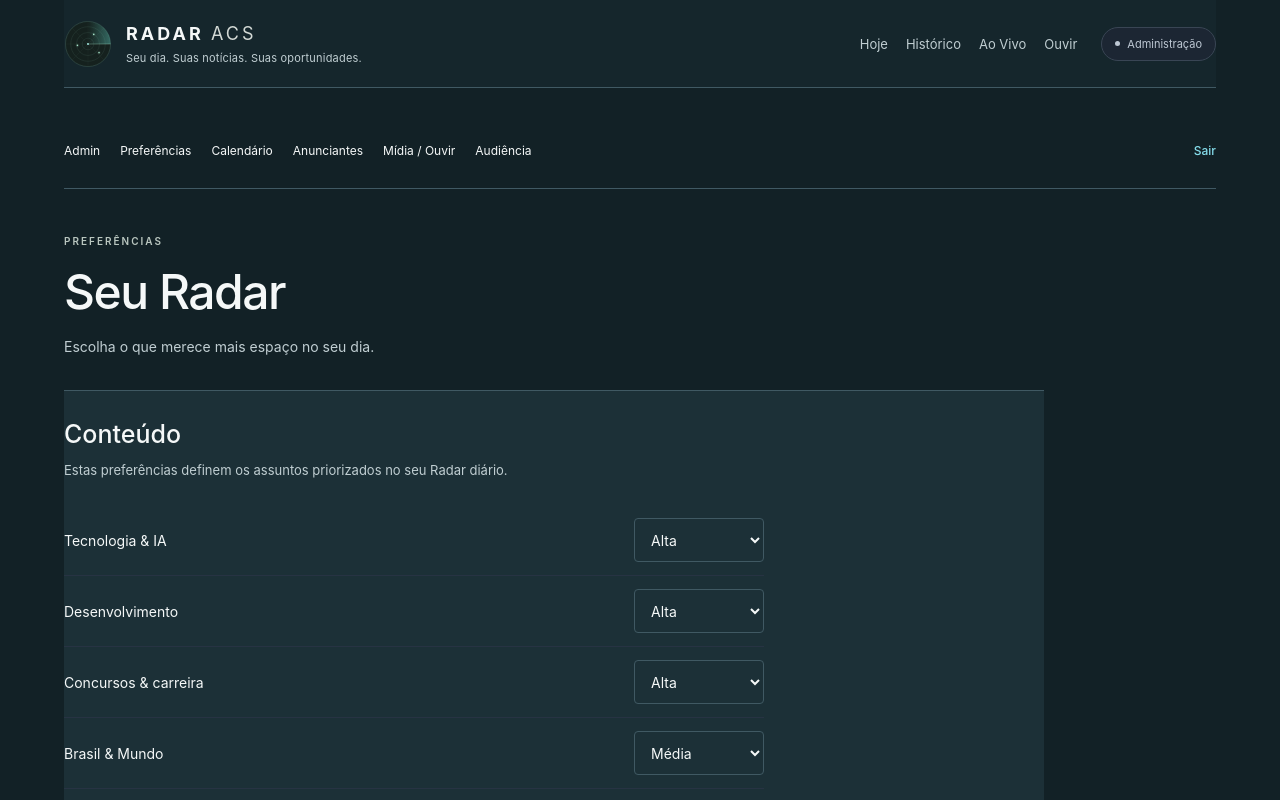
it: refresh em preferences autorizado carrega server-side e logout remove admin
Check: the heading "Seu Radar" is shown, box [64,262,285,321]
Step 1. Click the button "Sair" → (1205, 150), box [1194,128,1216,172]
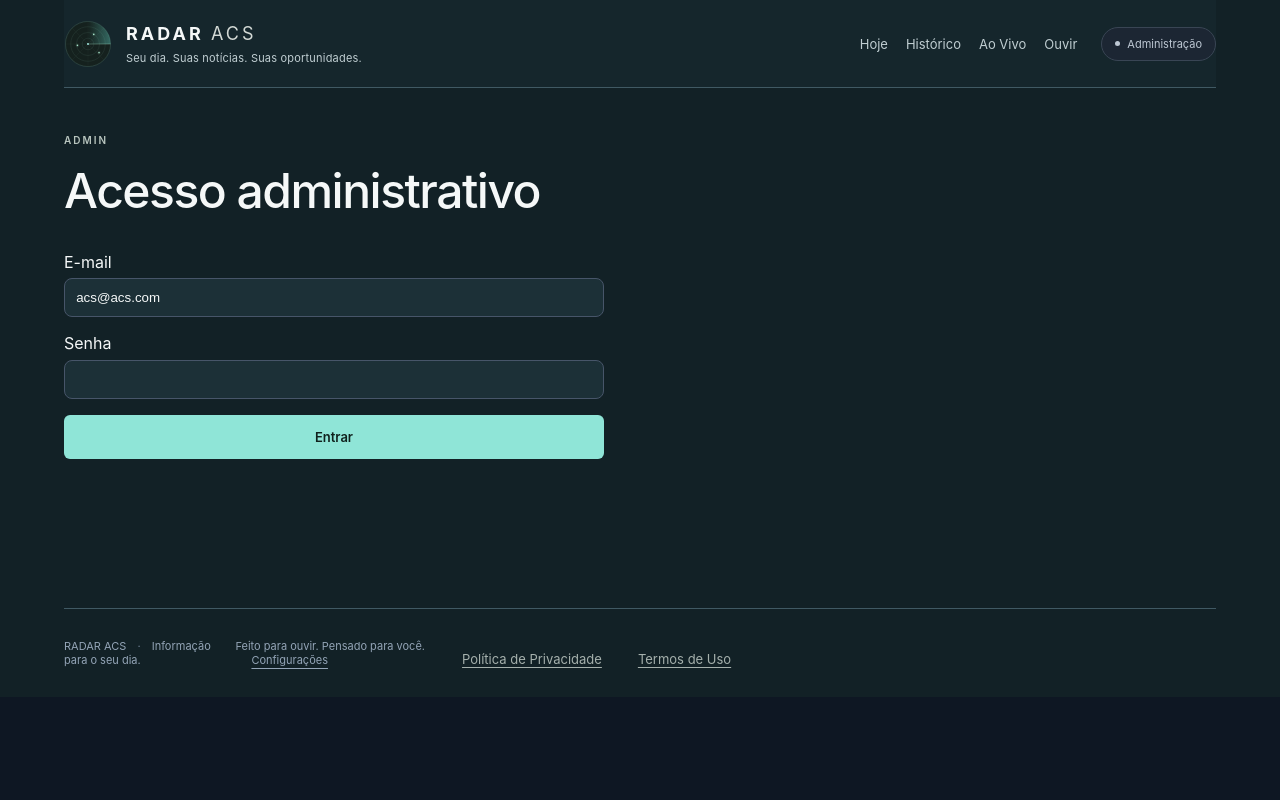
Check: the heading "Acesso administrativo" is shown, box [64,161,540,220]
Check: the heading "Seu Radar" is gone
